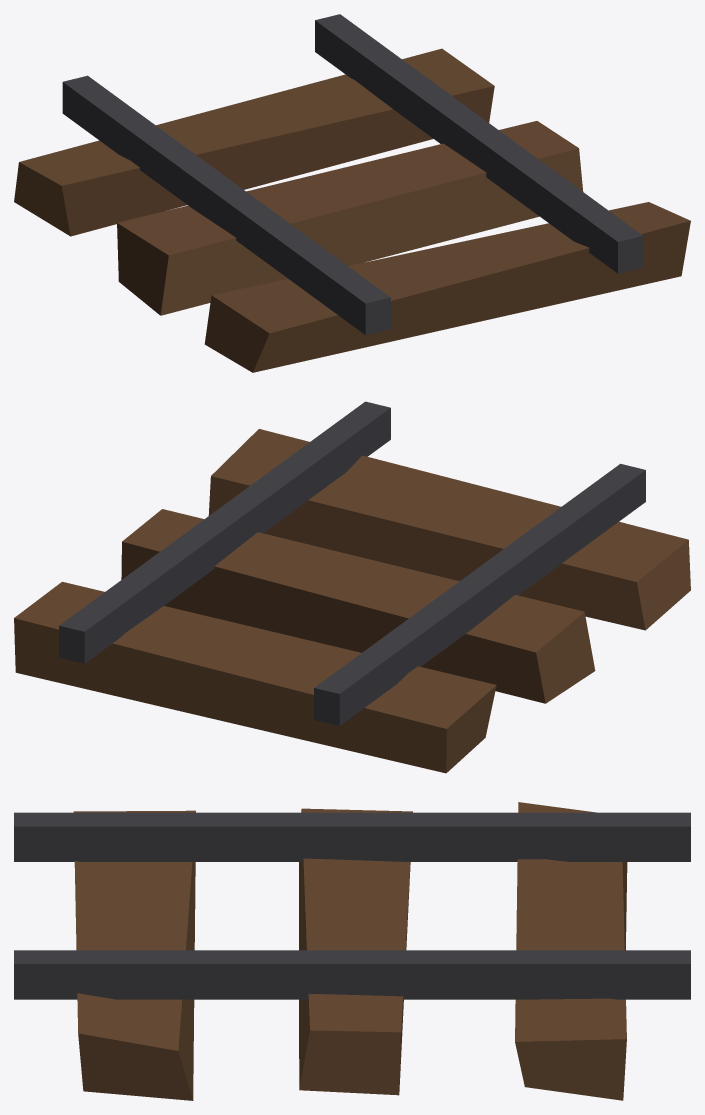
File: MineRails.fbx
3 renders of one model, top to bottom at view 1: azimuth 30°, elevation 25°; view 2: azimuth 150°, elevation 25°; view 3: azimuth 270°, elevation 25°, orthographic. The views are drawn at different scales.
Parts seen in each view (by area): view 1: MineRails; view 2: MineRails; view 3: MineRails.
Part boxes in pixels (x1,y1,x2,y2): MineRails: [14, 14, 690, 372]; MineRails: [14, 401, 690, 773]; MineRails: [14, 802, 690, 1100].
Bounding box in the file's own units: 0.8662 × 0.1644 × 1.04.
